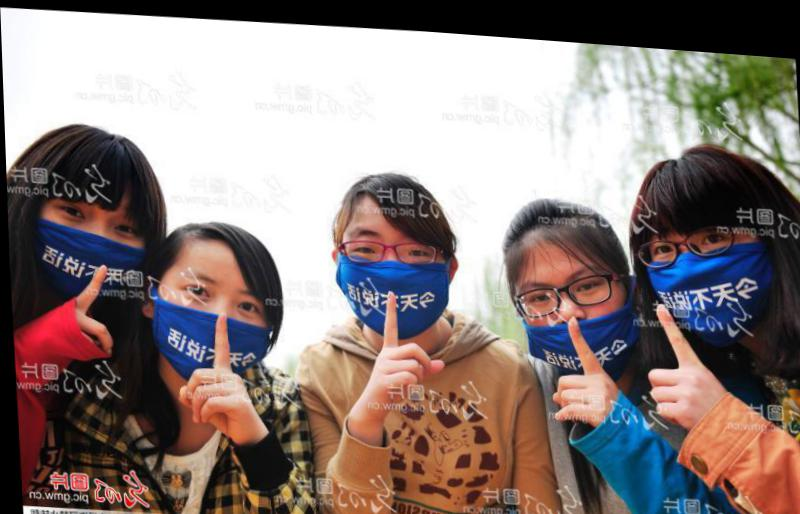OK: (623, 195, 765, 341), (157, 258, 283, 387), (30, 185, 154, 313), (341, 212, 450, 325)
WRONG: (512, 244, 626, 362)
